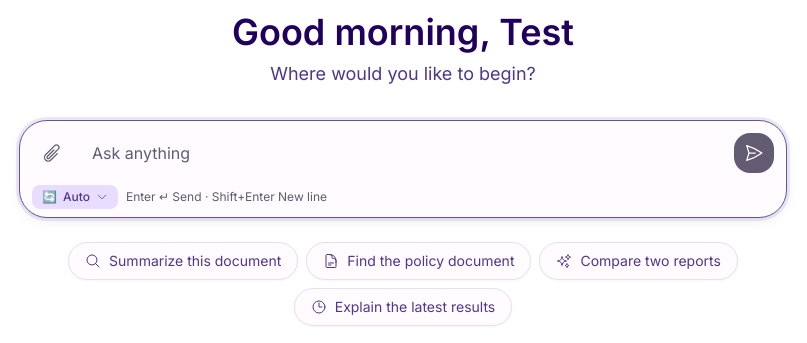
Scenario: DashboardPage › renders the greeting and suggestion chips, and fills the composer from a suggestion
Expected: the heading "Good morning, Test" is shown, [232,12,574,52]
Expected: the text "Where would you like to begin?" is shown, [270,63,536,84]
Click the button "Summarize this document": (183, 261) [68,242,298,280]
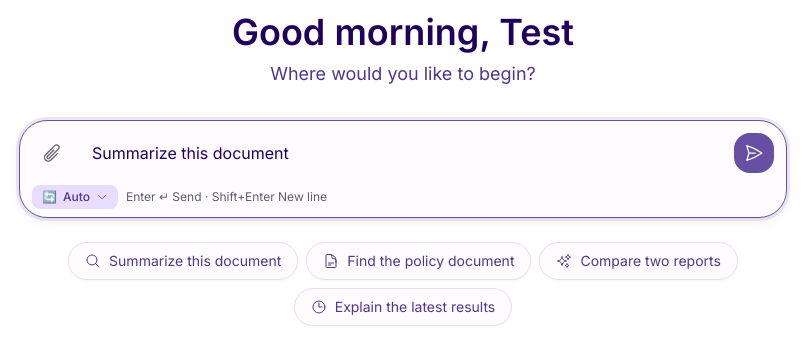
Expected: the text box with placeholder "Ask anything" holds "Summarize this document", [80,133,726,173]
